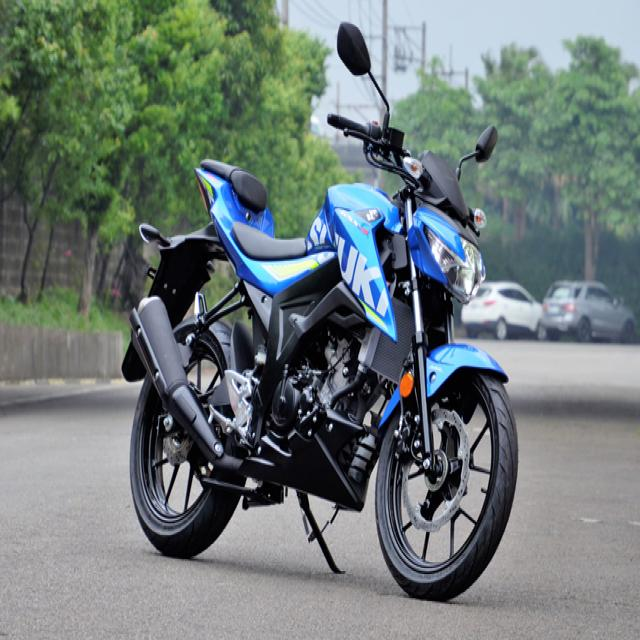Bike: (122, 92, 518, 599), (339, 24, 379, 89), (468, 126, 498, 162)
